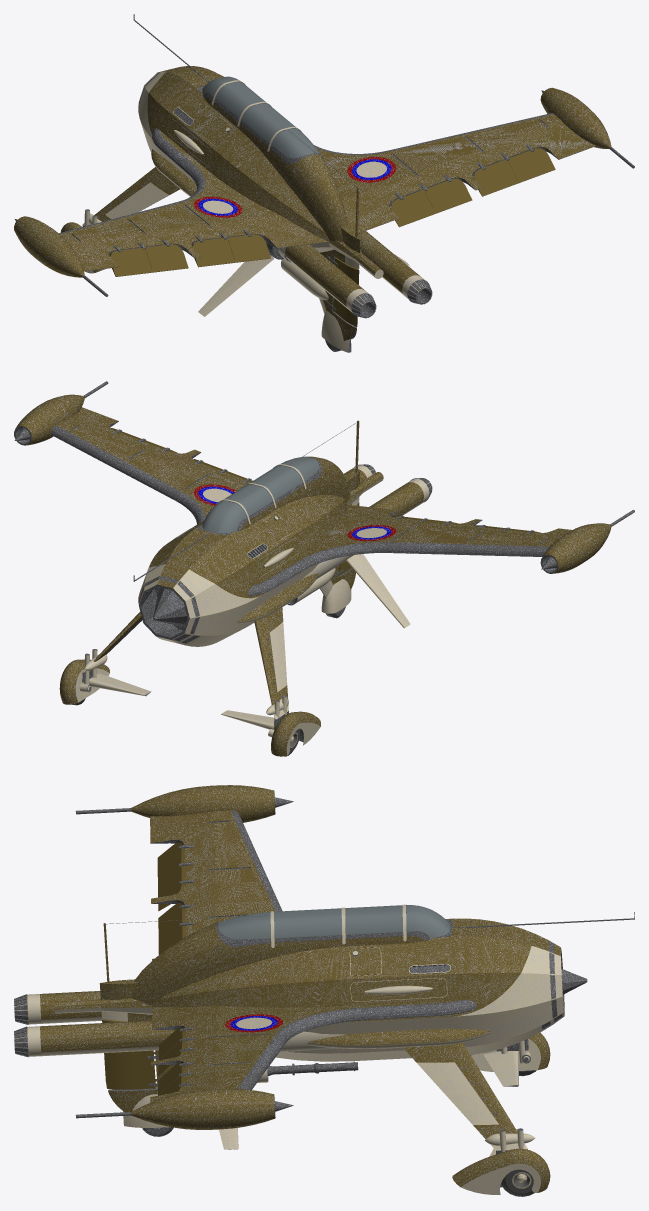
The picture shows the model from 3 angles, top to bottom: view 1: azimuth 30°, elevation 25°; view 2: azimuth 150°, elevation 25°; view 3: azimuth 270°, elevation 25°; orthographic projection. The views are drawn at different scales.
Parts seen in each view (by area): view 1: Component_37 (×17), Component_28 (×8), Component_30; view 2: Component_37 (×19); view 3: Component_37 (×26), Component_30, Component_28 (×2).
Boxes of the visible parts, left/top/right/bottom form: Component_37 (×17): left=14, top=66, right=611, bottom=352; Component_28 (×8): left=110, top=148, right=555, bottom=276; Component_30: left=333, top=257, right=359, bottom=326; Component_37 (×19): left=15, top=394, right=611, bottom=756; Component_37 (×26): left=14, top=785, right=564, bottom=1194; Component_30: left=102, top=1020, right=155, bottom=1089; Component_28 (×2): left=160, top=845, right=179, bottom=952.
Bounding box in the file's own units: 565 × 462 × 187.
